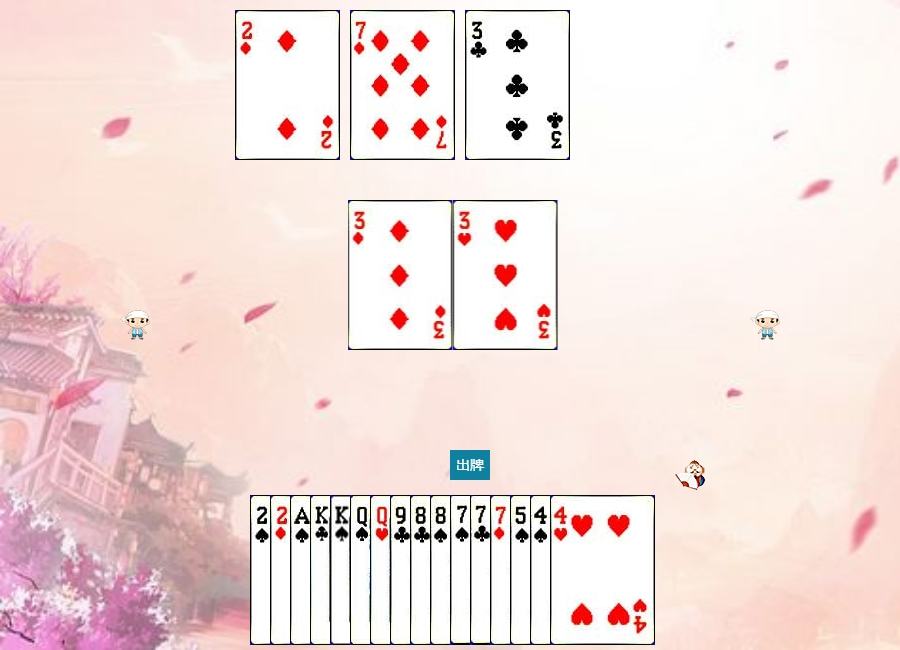12~3: (370, 495, 475, 645)
12~4: (350, 495, 455, 645)
13~2: (310, 495, 415, 645)
13~4: (330, 495, 435, 645)
14~4: (290, 495, 395, 645)
15~1: (235, 10, 340, 160), (270, 495, 375, 645)
15~4: (250, 495, 355, 645)
3~1: (348, 200, 453, 350)
3~2: (465, 10, 570, 160)
3~3: (453, 200, 558, 350)
4~3: (550, 495, 655, 645)
4~4: (530, 495, 635, 645)
5~4: (510, 495, 615, 645)
7~1: (350, 10, 455, 160), (490, 495, 595, 645)
7~2: (470, 495, 575, 645)
7~4: (450, 495, 555, 645)
8~2: (410, 495, 515, 645)
8~4: (430, 495, 535, 645)
9~2: (390, 495, 495, 645)
